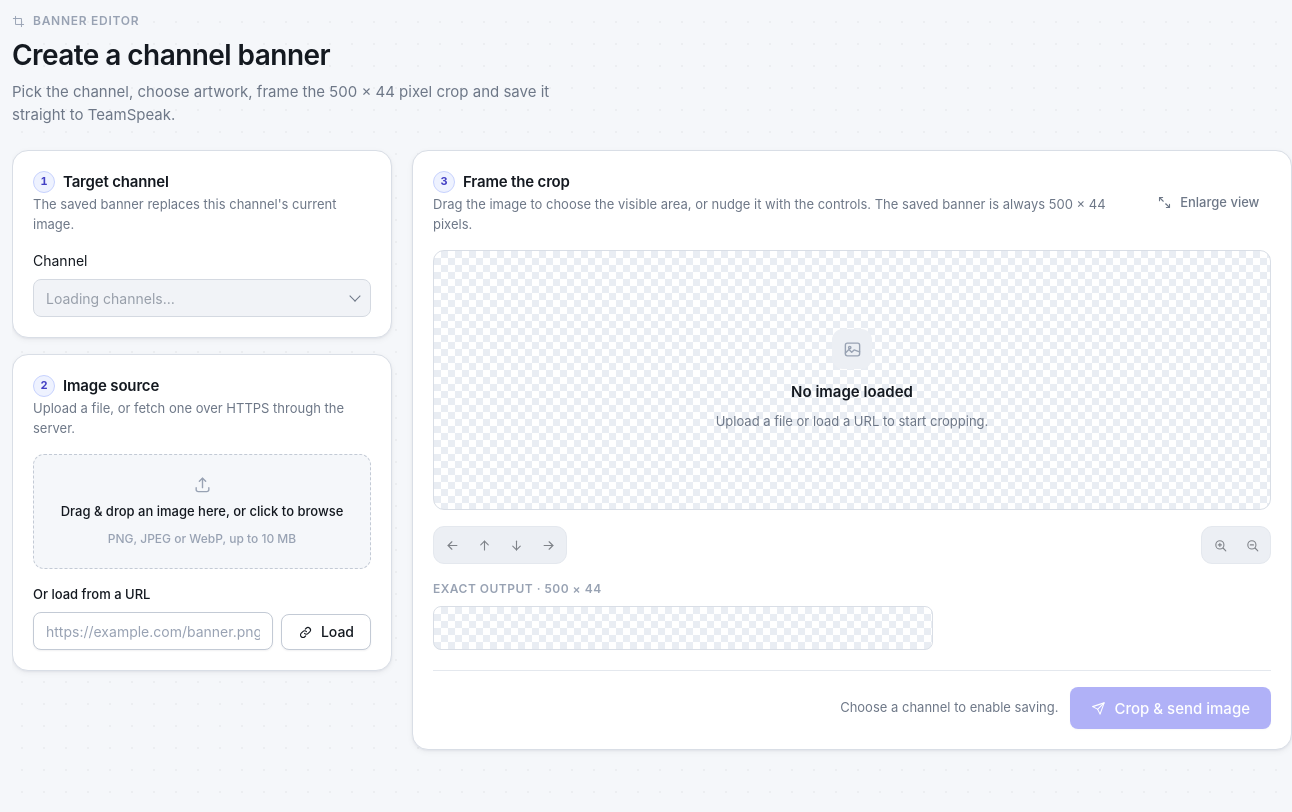
Test case: banner export workflow › focuses the URL field for local validation and clears its message on correction
Click the button "Load". click: (326,632)
box: [281,614,371,650]
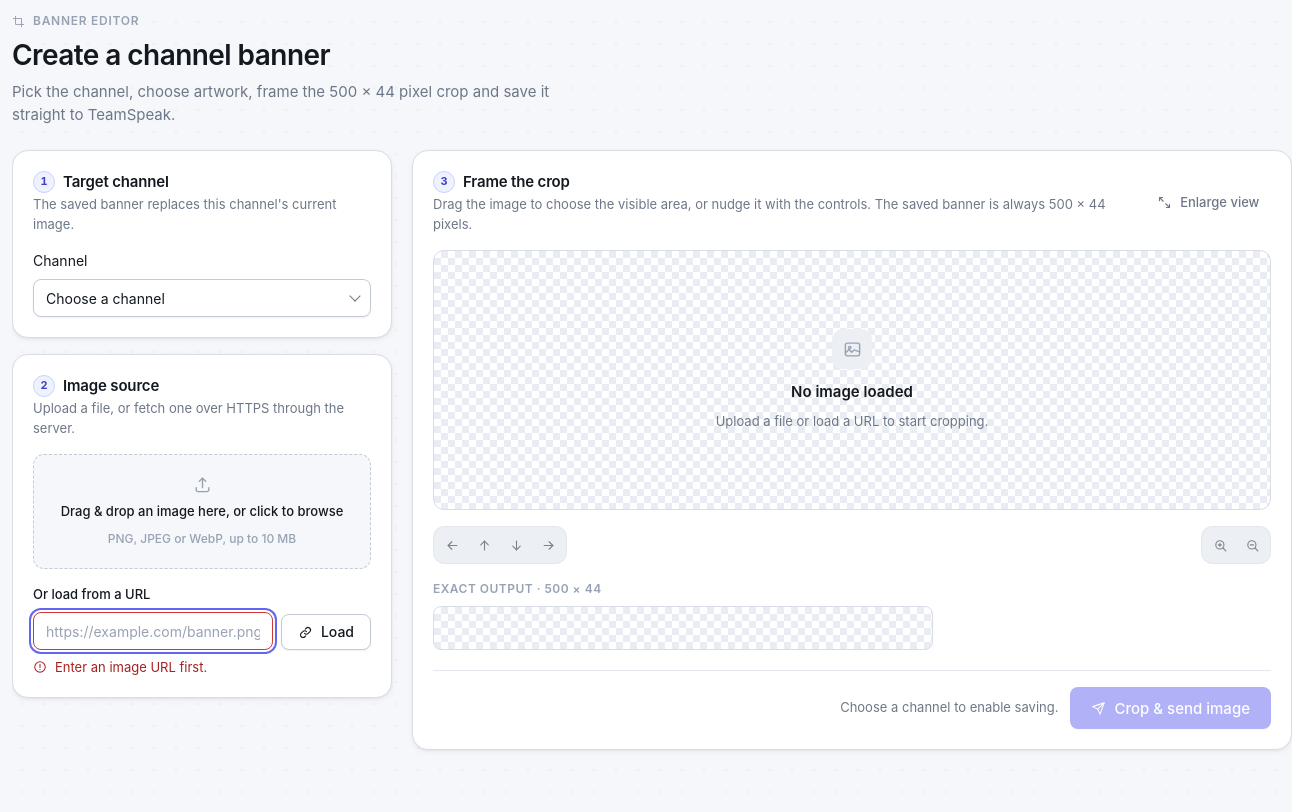
Type "https://example.test/image.png" into the field with id "imageUrl". click: (153,631)
box: [33,612,273,650]
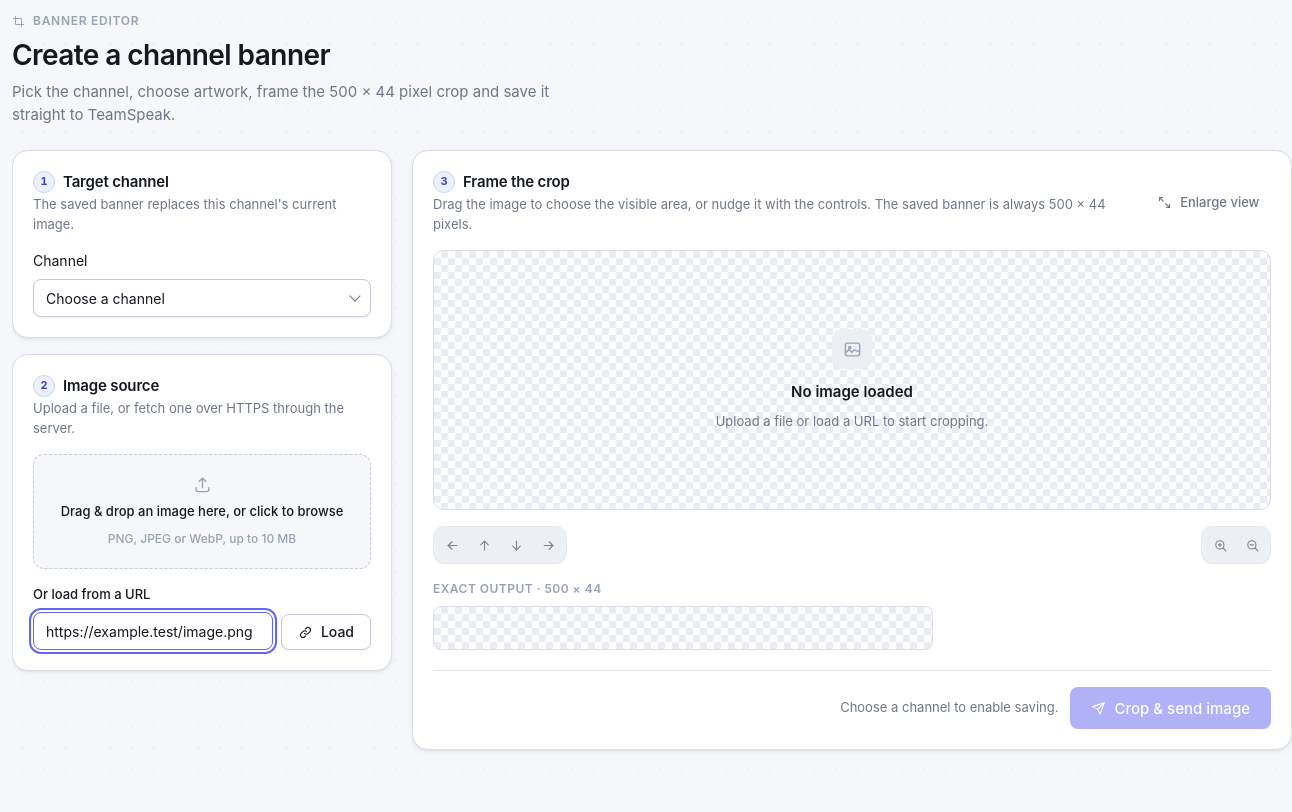
Now the text "Enter an image URL first." is gone
